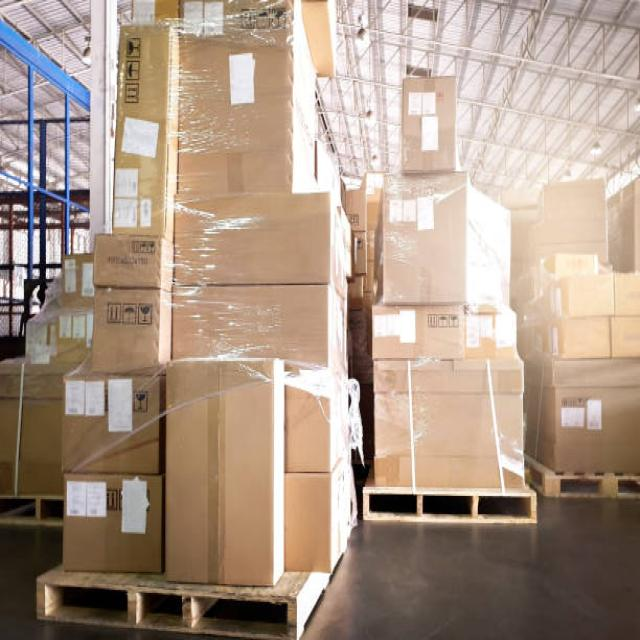Wooden-Pallets: (33, 578, 306, 640), (356, 482, 534, 526)
